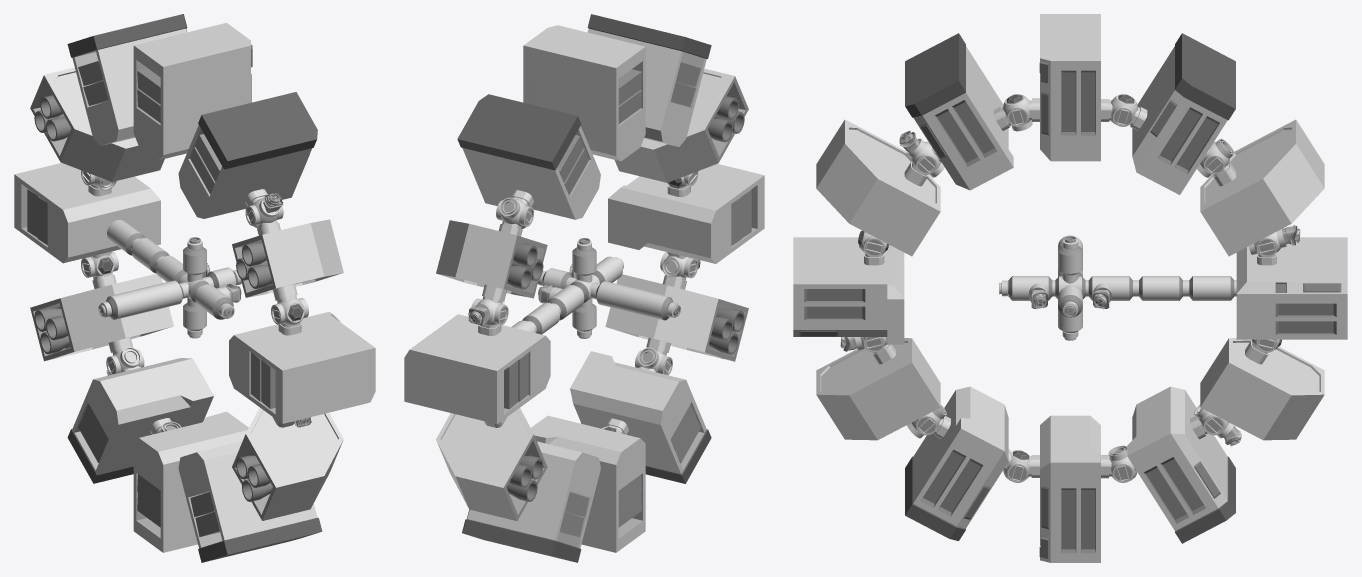
The model's file is endurance.glb.
The picture shows the model from 3 angles, left to right: view 1: azimuth 30°, elevation 25°; view 2: azimuth 150°, elevation 25°; view 3: azimuth 270°, elevation 25°; orthographic projection. The views are drawn at different scales.
Parts seen in each view (by area): view 1: EnduranceShip, EnduranceShip.002, EnduranceShip.001, Connector.008, Connector.007, Connector.002, Connector.001; view 2: EnduranceShip, EnduranceShip.002, EnduranceShip.001, Connector.0011, Connector, Connector.006, Connector.005; view 3: EnduranceShip, EnduranceShip.002, EnduranceShip.001, Connector.008, Connector, Connector.002, Connector.0011, Connector.009, Connector.003, Connector.0010, Connector.004.
Boxes of the visible parts, <box> form: EnduranceShip: <box>14,14,375,562</box>; EnduranceShip.002: <box>34,95,272,501</box>; EnduranceShip.001: <box>88,184,301,434</box>; Connector.008: <box>245,193,283,228</box>; Connector.007: <box>271,298,308,325</box>; Connector.002: <box>106,347,144,375</box>; Connector.001: <box>81,251,118,277</box>; EnduranceShip: <box>404,14,764,562</box>; EnduranceShip.002: <box>506,96,744,501</box>; EnduranceShip.001: <box>478,184,690,434</box>; Connector.0011: <box>496,197,533,229</box>; Connector: <box>468,298,508,325</box>; Connector.006: <box>660,252,700,278</box>; Connector.005: <box>635,347,672,375</box>; EnduranceShip: <box>793,14,1347,562</box>; EnduranceShip.002: <box>1001,235,1236,338</box>; EnduranceShip.001: <box>864,98,1276,478</box>; Connector.008: <box>899,130,944,177</box>; Connector: <box>1248,225,1299,257</box>; Connector.002: <box>1194,404,1241,446</box>; Connector.0011: <box>1197,138,1234,177</box>; Connector.009: <box>1003,94,1032,131</box>; Connector.003: <box>1108,445,1137,482</box>; Connector.0010: <box>1111,94,1137,126</box>; Connector.004: <box>1003,450,1031,482</box>.
Size of the model in its own units: 17.72 by 54.6 by 54.6.
Materials: 2 (2 with a texture image).
